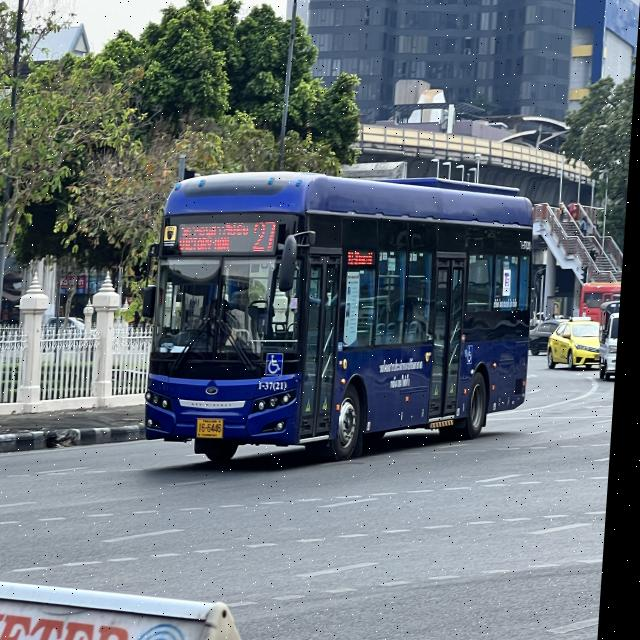Bus Line Number: (253, 216, 283, 257)
Bus Side Number: (259, 380, 294, 391)
Destination Sign: (179, 217, 253, 258)
TSB-Bus: (149, 172, 537, 466)
